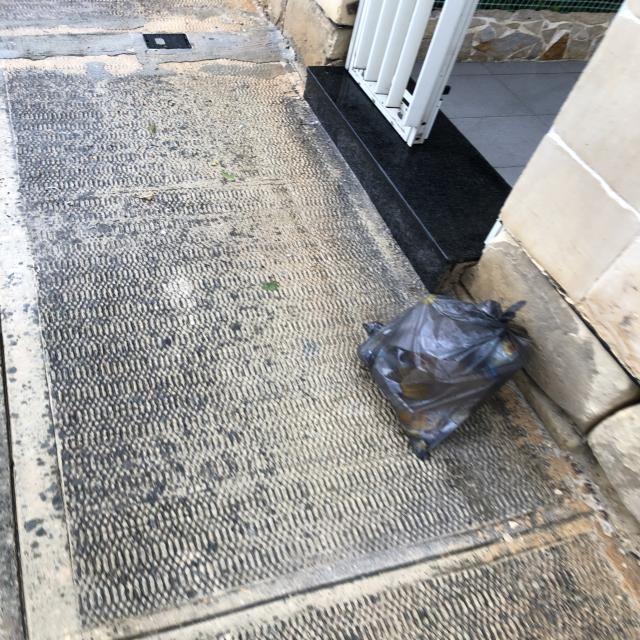Mixed Waste -Black Bag-: (361, 294, 529, 457)
